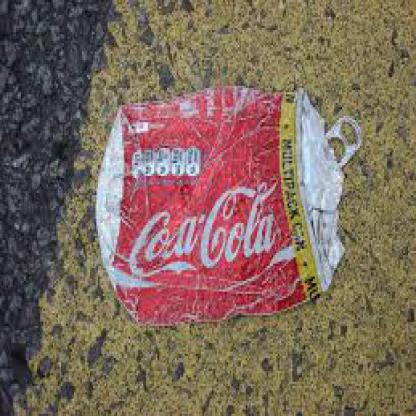METAL: (92, 90, 360, 324)
